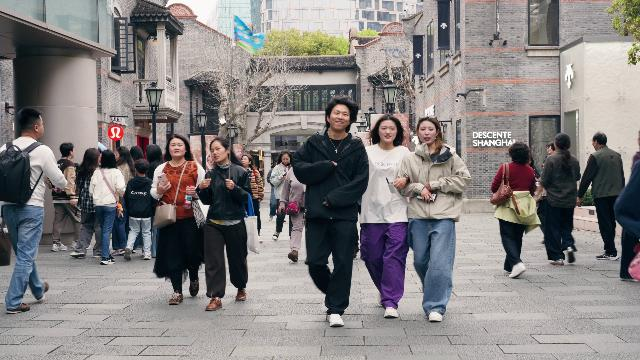person: (290, 96, 369, 326), (392, 115, 472, 323), (0, 107, 68, 315), (358, 113, 412, 318), (196, 136, 255, 311), (150, 133, 208, 305), (491, 141, 542, 278), (575, 131, 627, 262), (534, 132, 581, 266), (89, 149, 128, 265), (46, 142, 81, 252), (123, 159, 158, 261), (71, 148, 102, 259), (240, 154, 265, 243), (270, 149, 293, 241), (285, 141, 288, 149)
